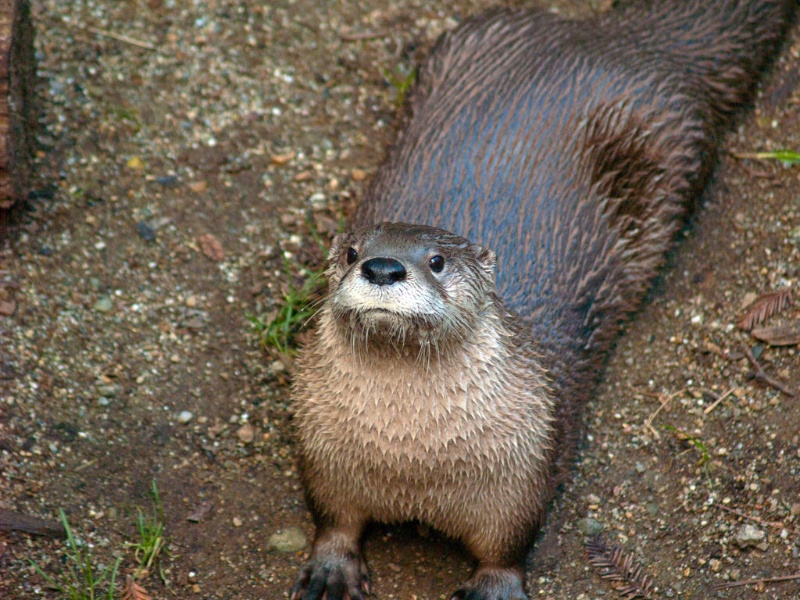minkish: (296, 1, 779, 597)
